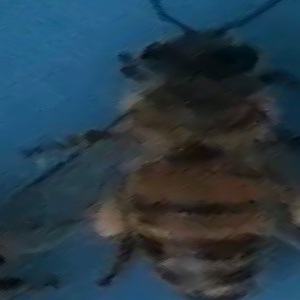bee: (30, 9, 300, 300)
